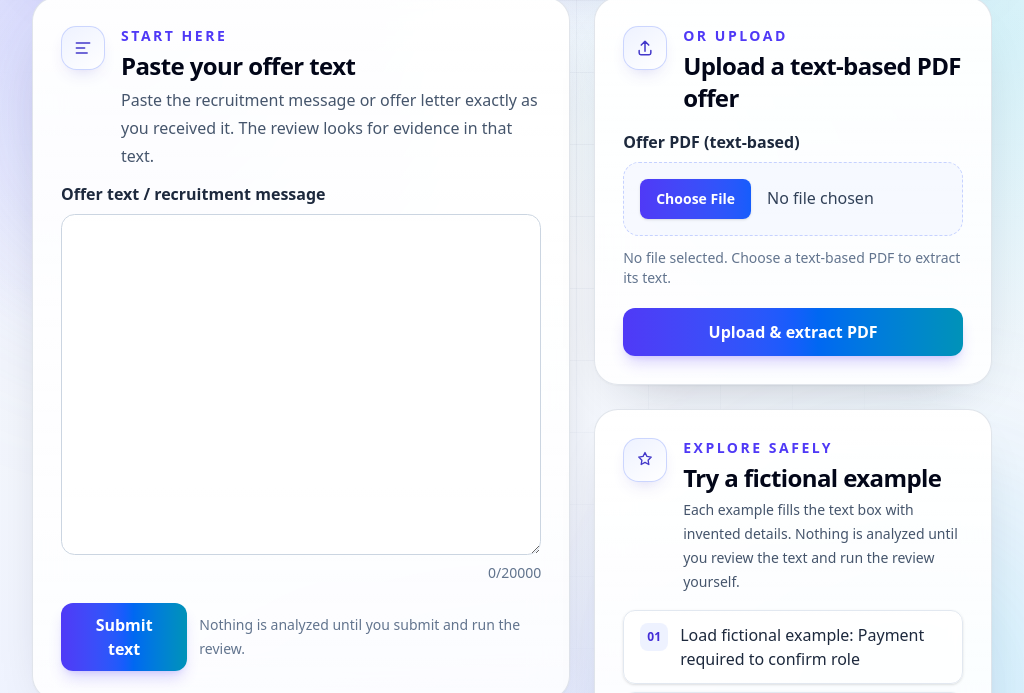
Test: OfferShield review page › runs a rule-based review without AI consent
(page scrolled)
Type "To confirm your acceptance, please pay the registration fee." into the text box labelled "Offer text / recruitment message" at (301, 385), box x1=61 y1=214 x2=541 y2=555
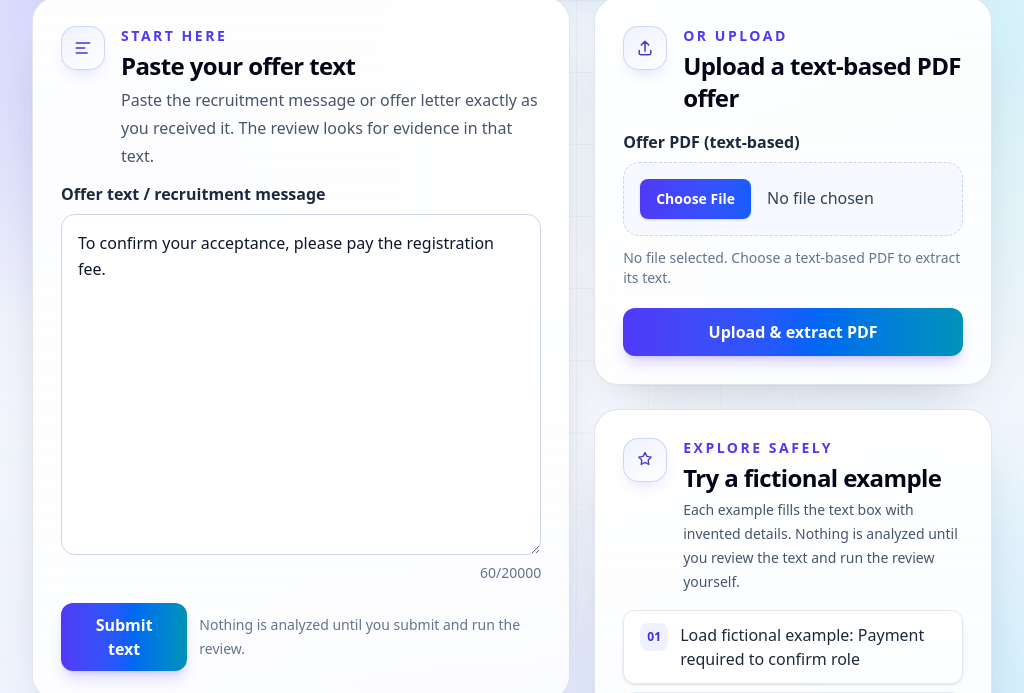
Click the button "Submit text" at (124, 637), box x1=61 y1=603 x2=187 y2=671
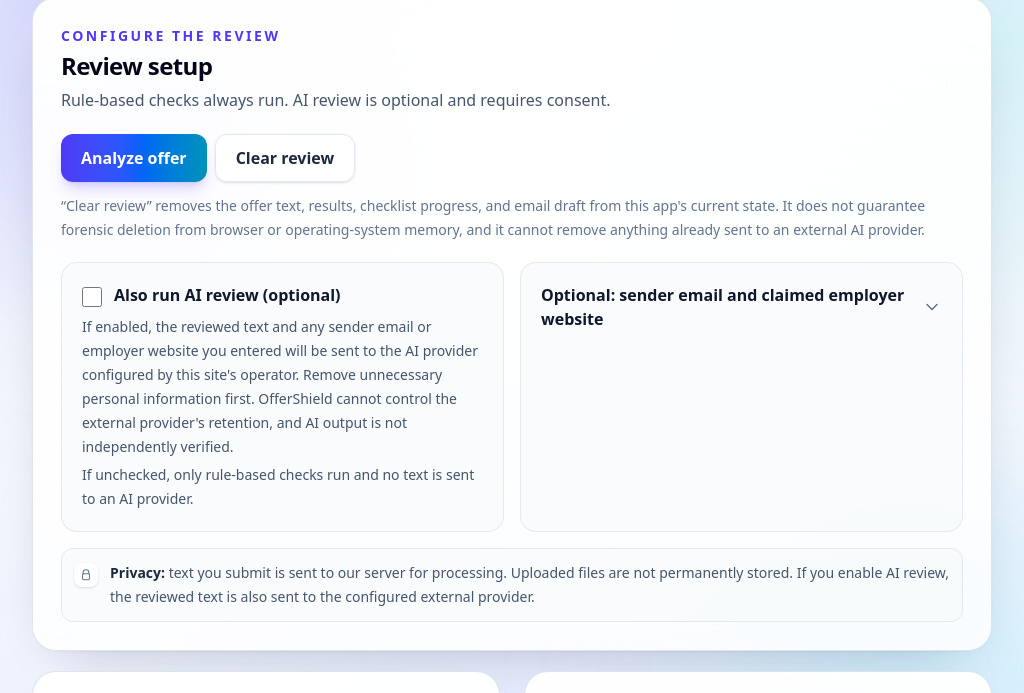
Expected: the button "Analyze offer" is shown
Click the button "Analyze offer" at (134, 158), box x1=61 y1=134 x2=207 y2=182
(page scrolled)
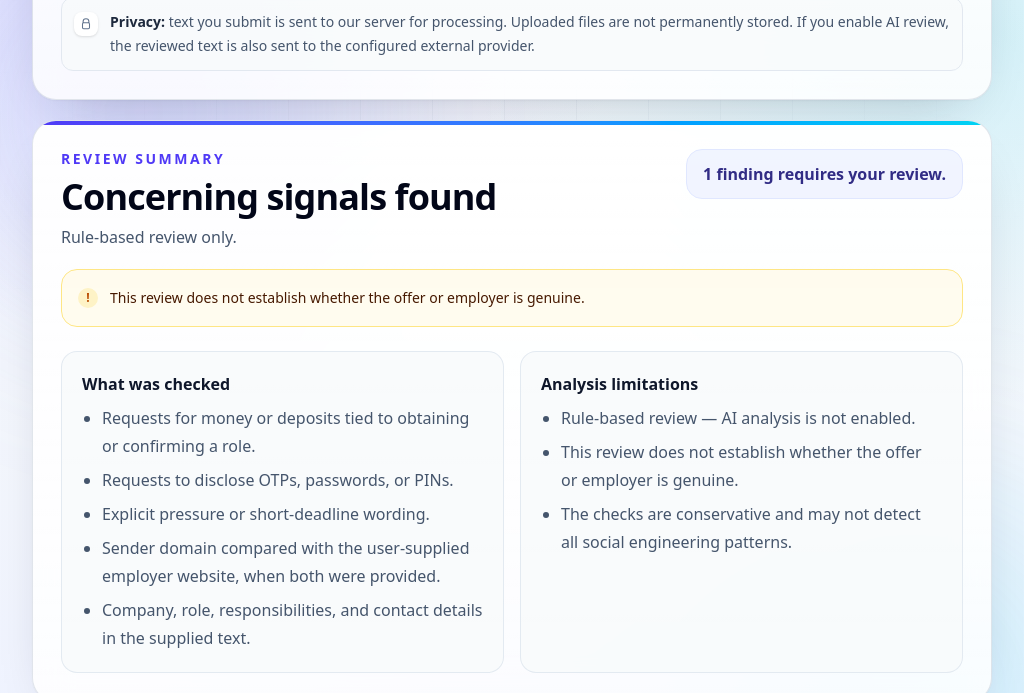
Expected: the text "Concerning signals found" is shown, x1=61 y1=177 x2=496 y2=217
Expected: the text "Rule-based review only." is shown, x1=61 y1=226 x2=237 y2=248
Expected: the text "This review does not establish whether the offer or employer is genuine." is shown, x1=110 y1=286 x2=585 y2=310
